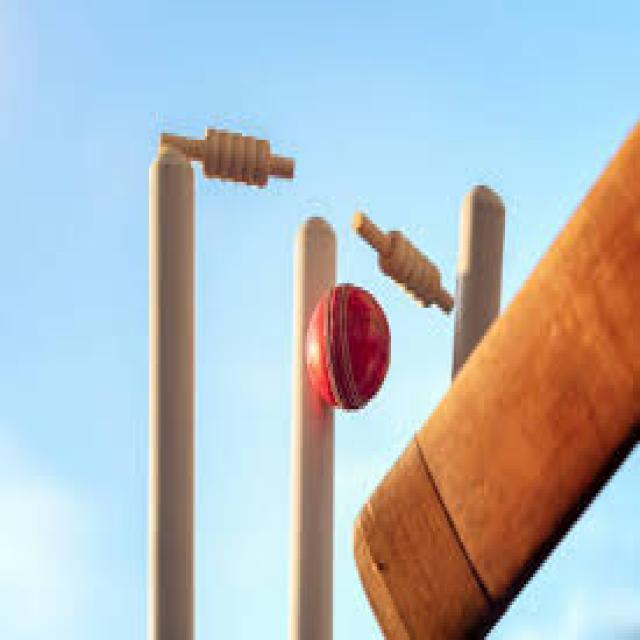ball: (296, 280, 393, 412)
